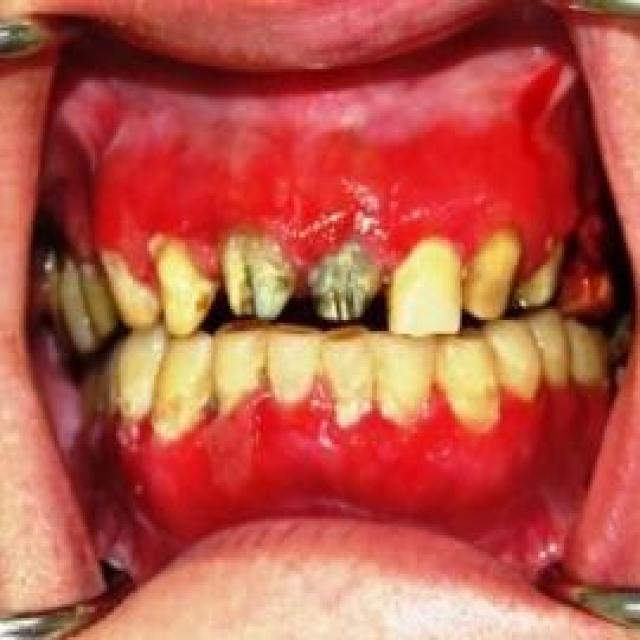caries: (306, 236, 383, 325), (220, 229, 292, 320)
